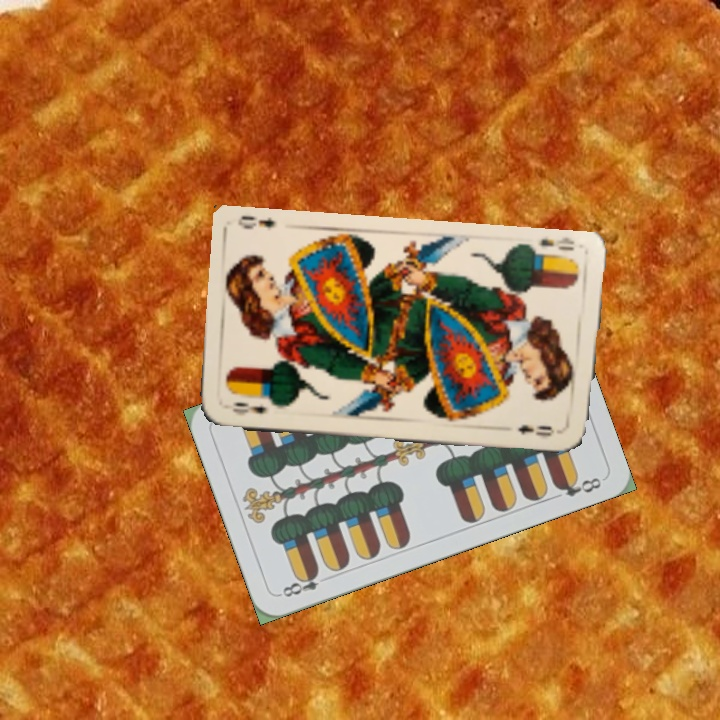E8: (275, 567, 322, 600)
EO: (228, 398, 270, 418), (536, 234, 577, 254)
